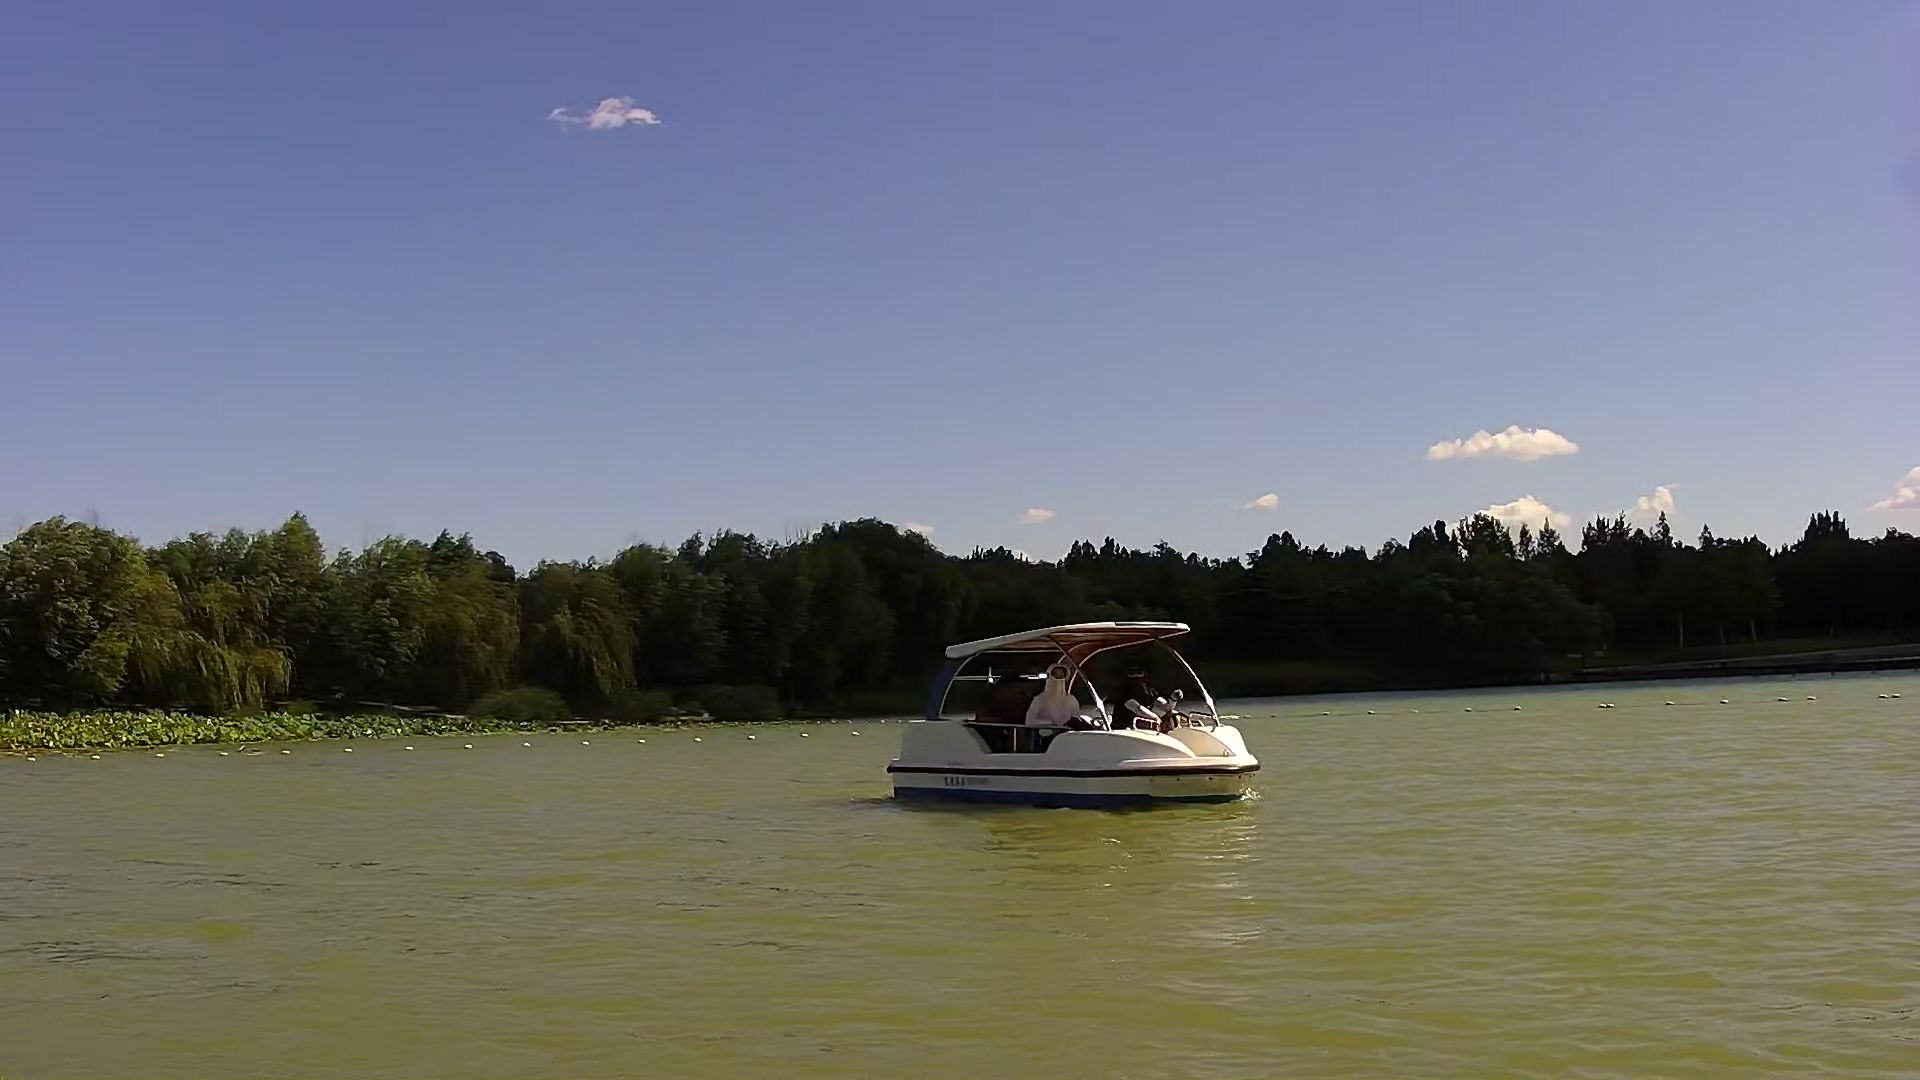boat: (884, 612, 1276, 823)
